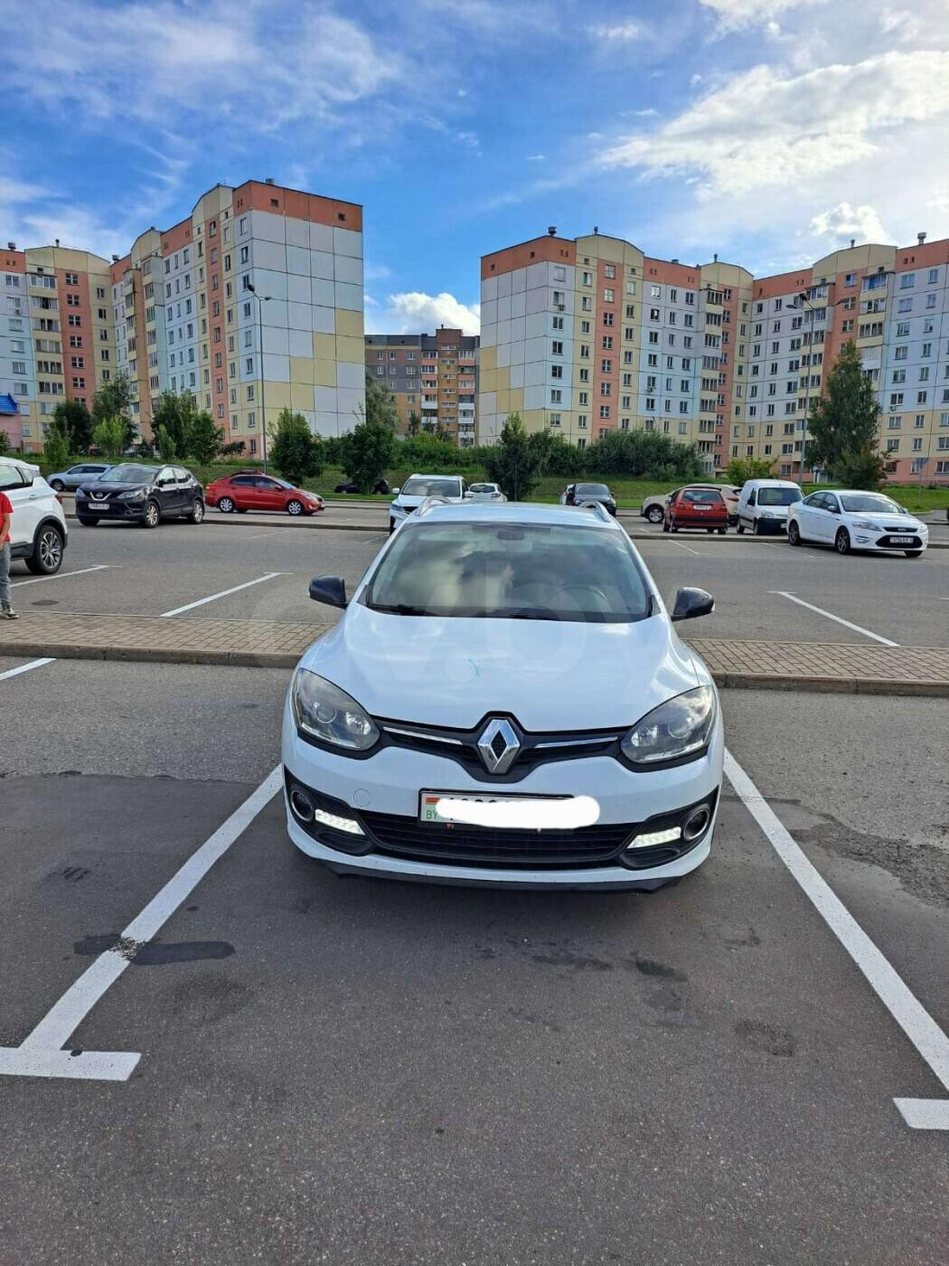Megane_2014-2016: (282, 494, 741, 906)
